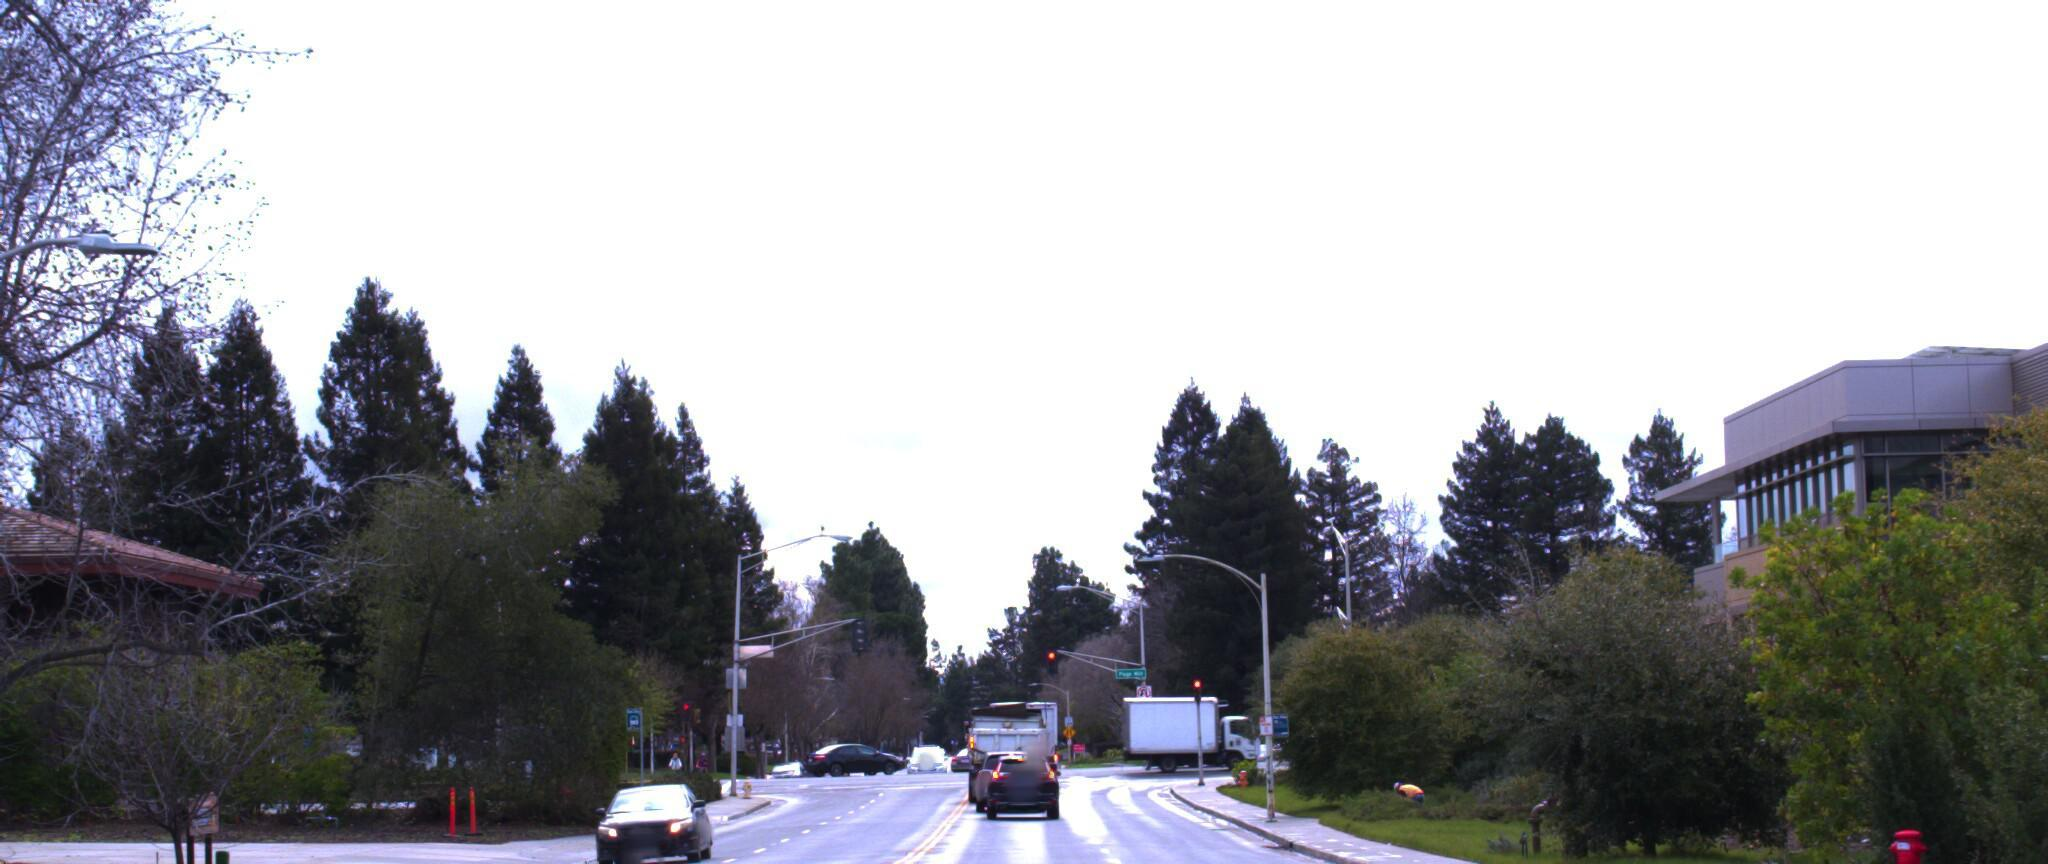car: (594, 784, 724, 864), (998, 758, 1076, 827)
